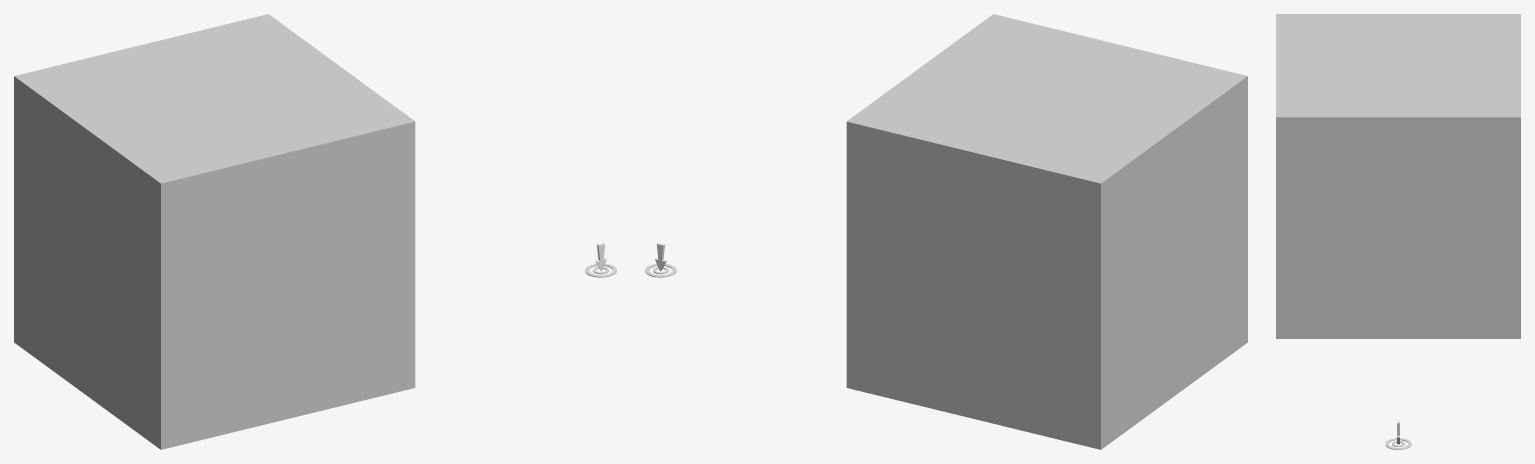
Rendered from Arrow.fbx.
3 views of the same model, side by side, from view 1: azimuth 30°, elevation 25°; view 2: azimuth 150°, elevation 25°; view 3: azimuth 270°, elevation 25° (orthographic). The views are drawn at different scales.
Visible parts, largest first — view 1: Cube.001; view 2: Cube.001; view 3: Cube.001.
Part boxes in pixels (x1,y1,x2,y2): Cube.001: [14, 14, 415, 449]; Cube.001: [846, 14, 1247, 449]; Cube.001: [1276, 14, 1520, 338].
Size of the model in its own units: 4.14 by 2 by 2.
Materials: 3 (1 with a texture image).
